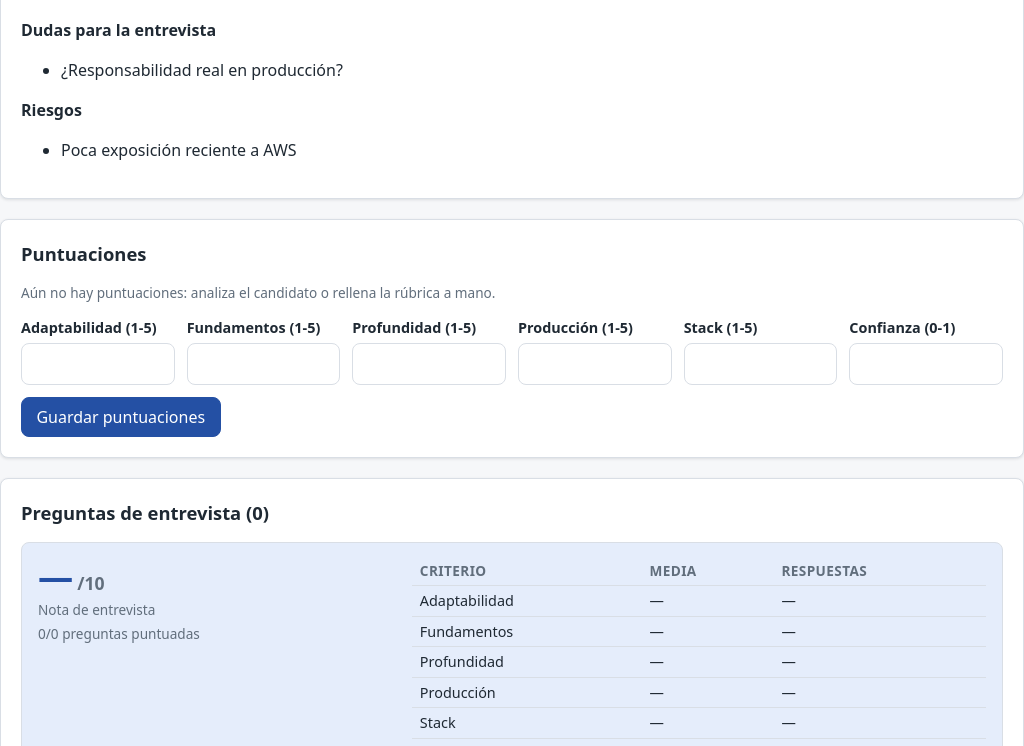
Test case: CandidateDetailPage › envía el PATCH y muestra los tres scores recalculados por el backend
(page scrolled)
In the number field labelled "Adaptabilidad (1-5)": (98, 364) [21,343,175,385], type "4"
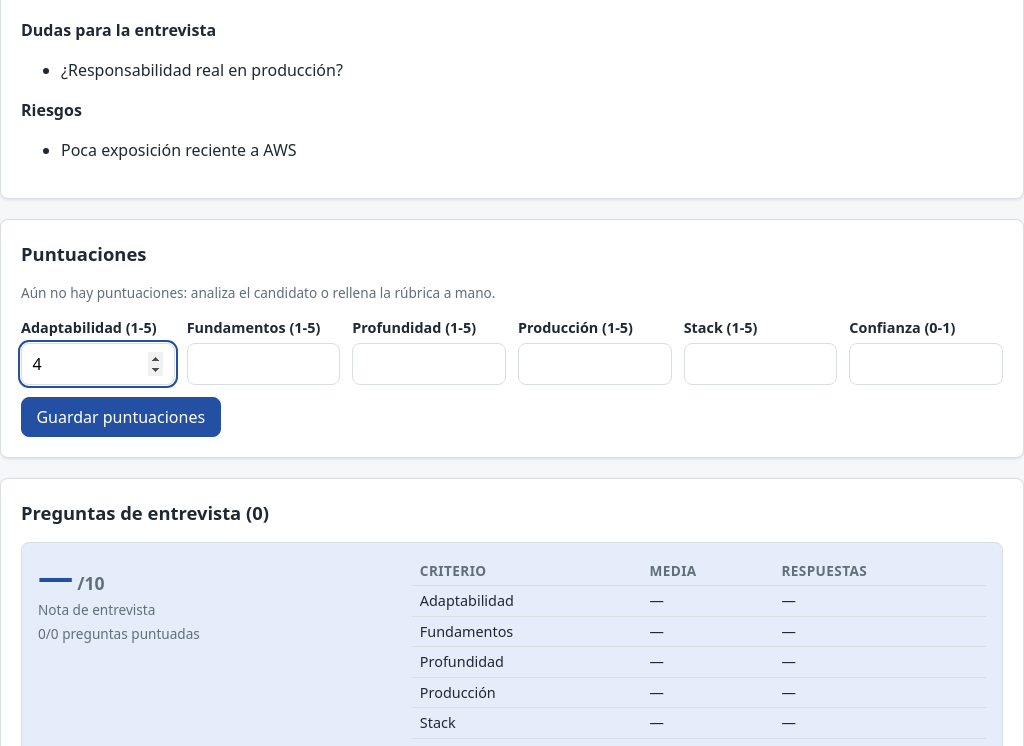
Click the button "Guardar puntuaciones": (121, 417) [21,397,220,437]
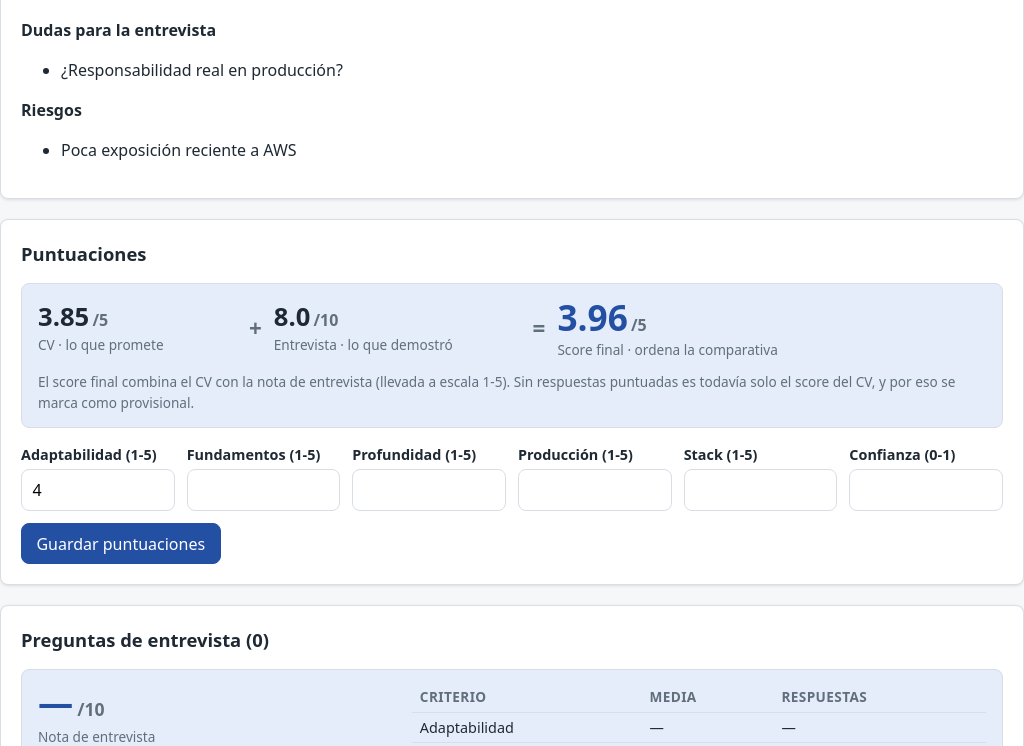
Result: the text "3.85" is shown at [38,303,89,331]
Result: the text "8.0" is shown at [274,303,310,331]
Result: the text "3.96" is shown at [557,298,628,336]
